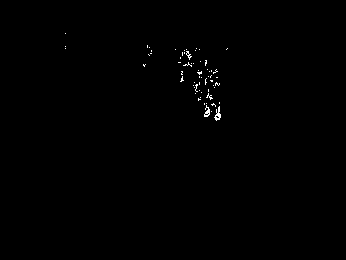person: (193, 60, 224, 122)
